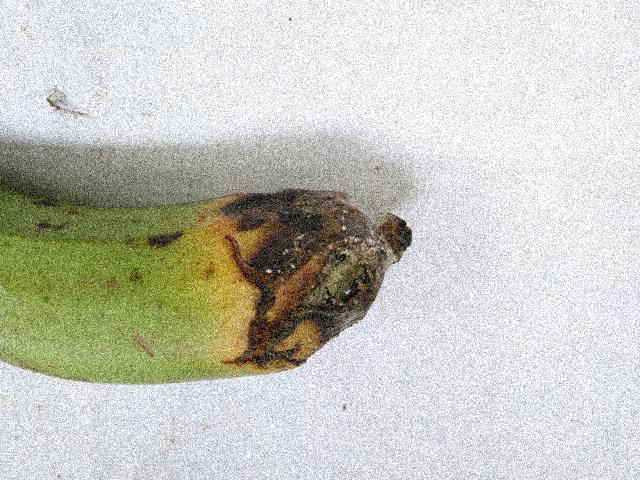rotten: (181, 164, 458, 398)
